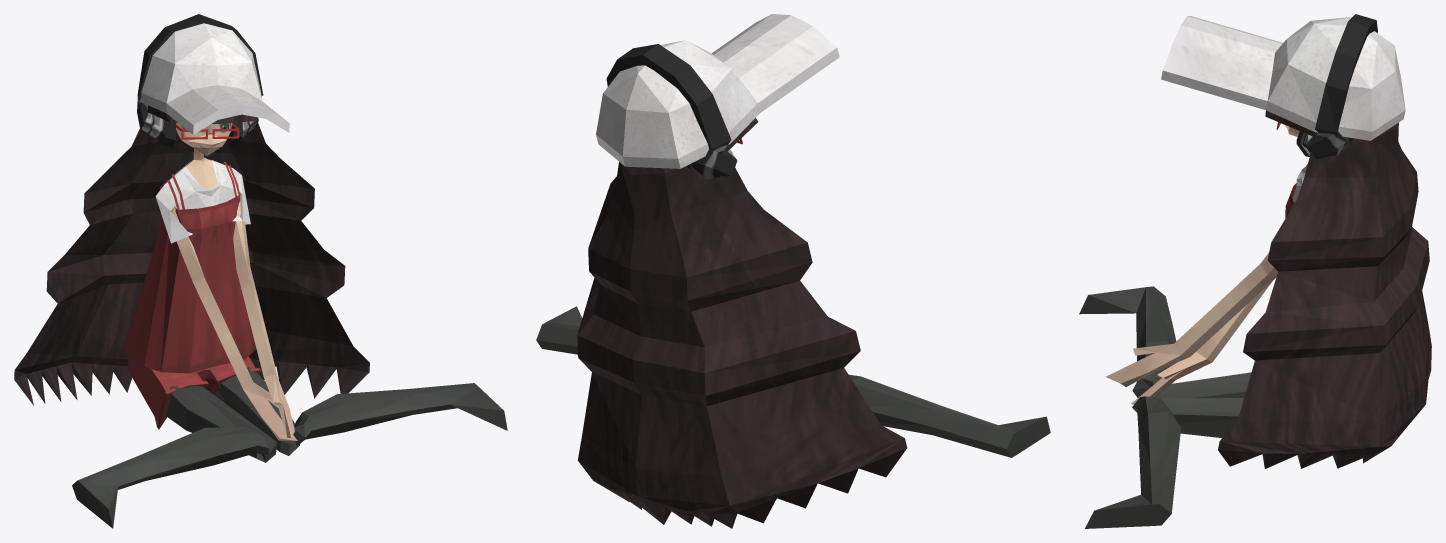
The model's file is teiri_petan.dae.
3 renders of one model, left to right at view 1: azimuth 30°, elevation 25°; view 2: azimuth 150°, elevation 25°; view 3: azimuth 270°, elevation 25°, orthographic. The views are drawn at different scales.
Parts seen in each view (by area): view 1: Plane; view 2: Plane; view 3: Plane.
Part boxes in pixels (<box>): Plane: <box>14,14,507,528</box>; Plane: <box>536,14,1050,528</box>; Plane: <box>1079,14,1431,528</box>.
Bounding box in the file's own units: 4.62 × 3.2 × 4.29.
1 material, 1 textured.
